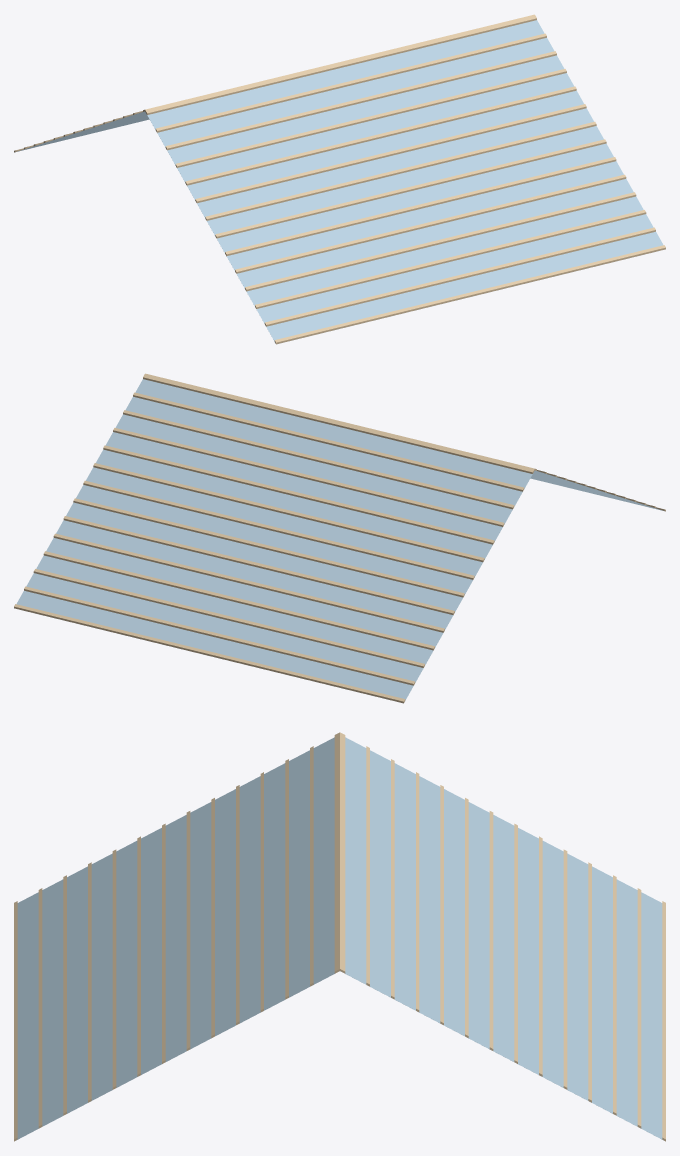
File: stage-5.glb
3 views of the same model, one above another, from view 1: azimuth 30°, elevation 25°; view 2: azimuth 150°, elevation 25°; view 3: azimuth 270°, elevation 25° (orthographic). The views are drawn at different scales.
Parts seen in each view (by area): view 1: Geom3D (×2); view 2: Geom3D (×2); view 3: Geom3D (×2).
Part boxes in pixels (left/top/right/bottom): Geom3D (×2): left=14, top=14, right=665, bottom=344; Geom3D (×2): left=14, top=373, right=665, bottom=703; Geom3D (×2): left=14, top=732, right=665, bottom=1141.
Size of the model in its own units: 6.78 by 2.31 by 7.9.
